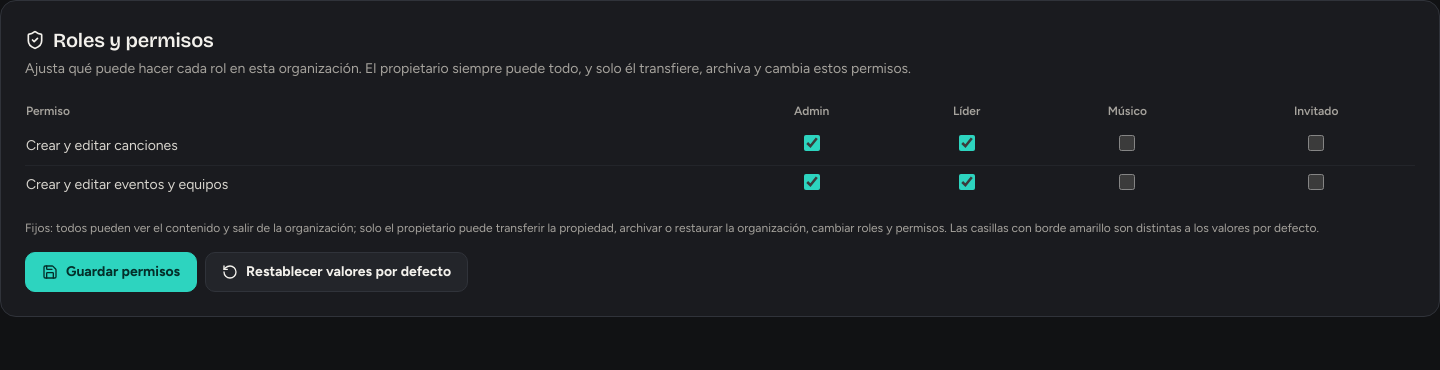
Test: RolePermissionsSettings › guardar manda los permisos de cada rol
Click the checkbox named "Músico: Crear y editar canciones": {"x": 1127, "y": 143} [1119,135,1135,151]
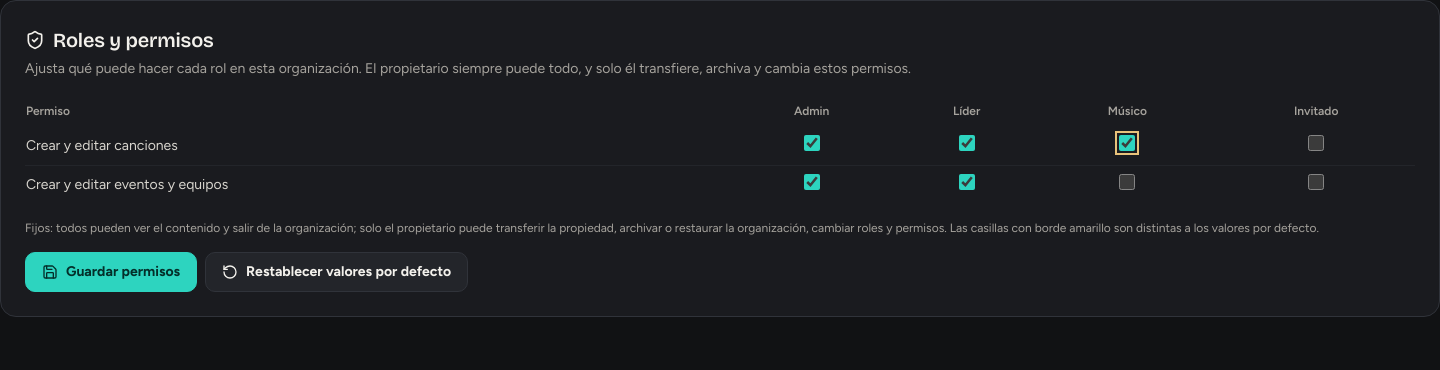
Click the checkbox named "Líder: Crear y editar eventos y equipos": {"x": 967, "y": 182} [959,174,975,190]
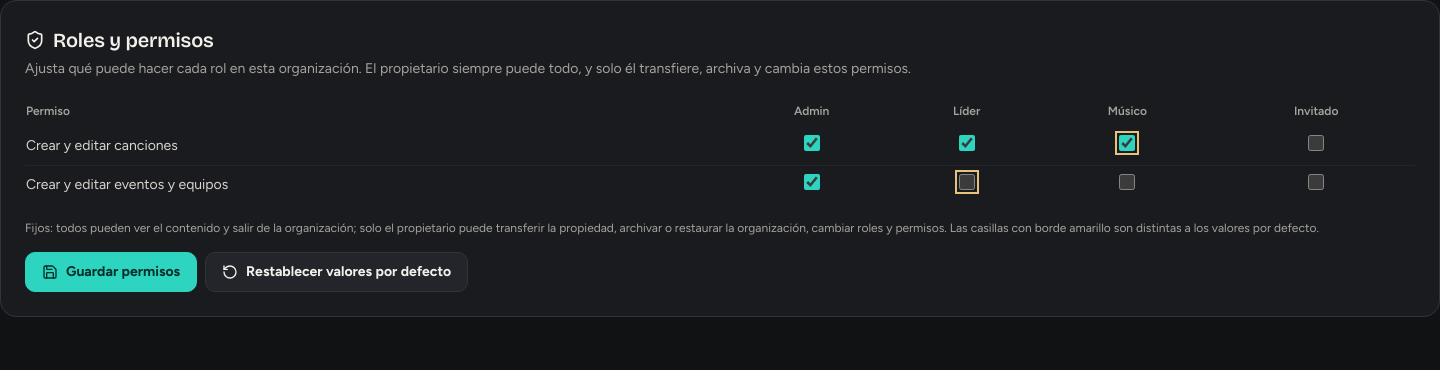
Click the button "Guardar permisos": {"x": 111, "y": 272} [25,252,197,292]
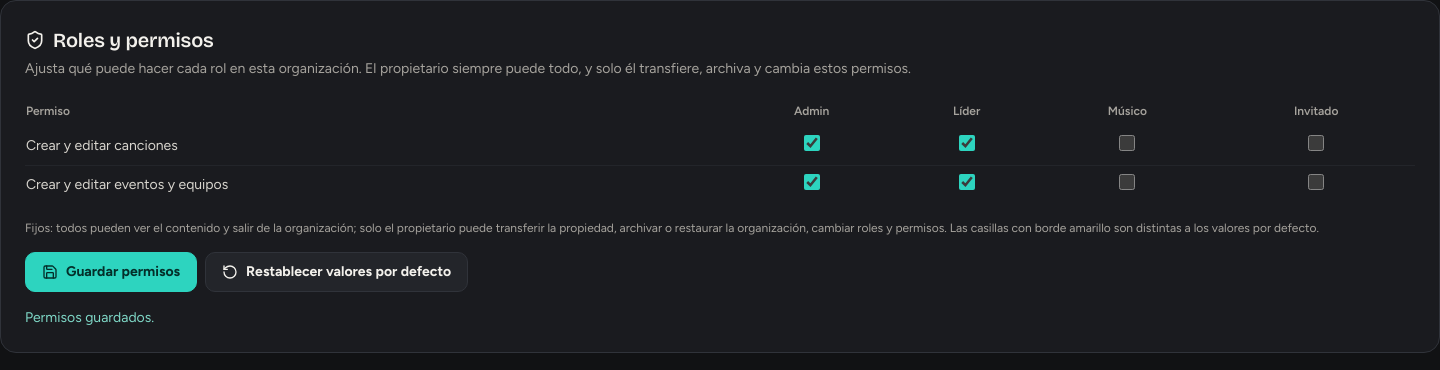
Result: the text "Permisos guardados." is shown at [25,309,154,326]
